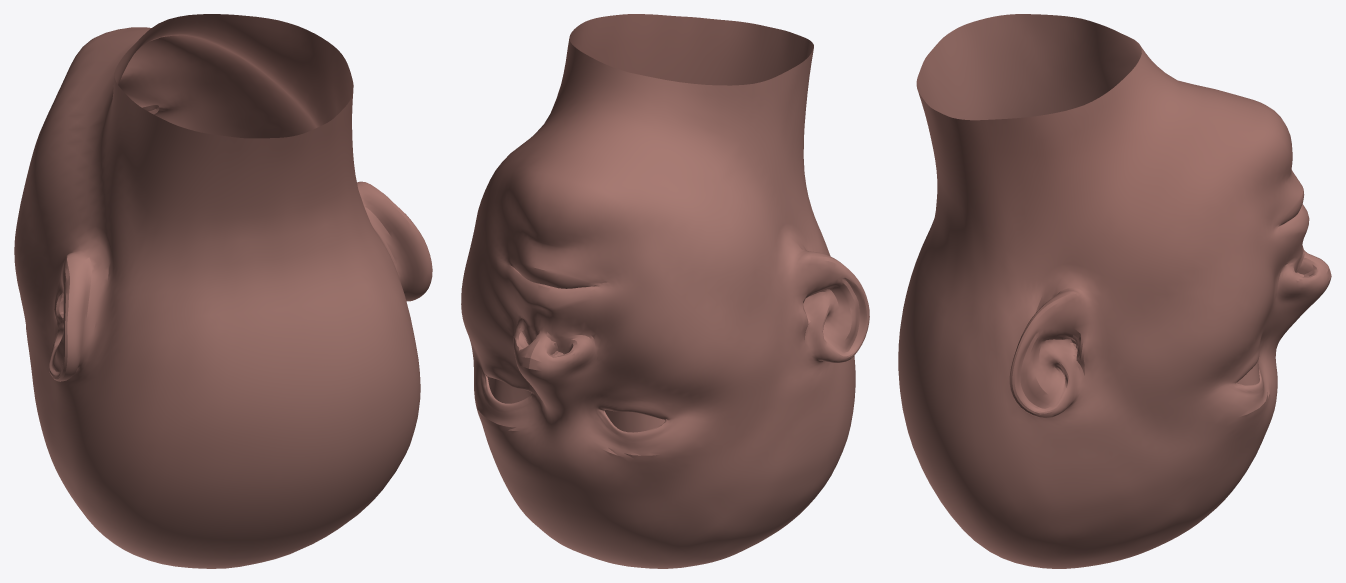
Rendered from user_head.glb.
3 renders of one model, left to right at view 1: azimuth 30°, elevation 25°; view 2: azimuth 150°, elevation 25°; view 3: azimuth 270°, elevation 25°, orthographic. The views are drawn at different scales.
Visible parts, largest first — view 1: Default; view 2: Default; view 3: Default.
Part boxes in pixels (x1,y1,x2,y2): Default: [14, 14, 432, 568]; Default: [461, 14, 869, 568]; Default: [898, 14, 1331, 568].
Size of the model in its own units: 0.0169 by 0.0224 by 0.0178.
1 material, 1 textured.
